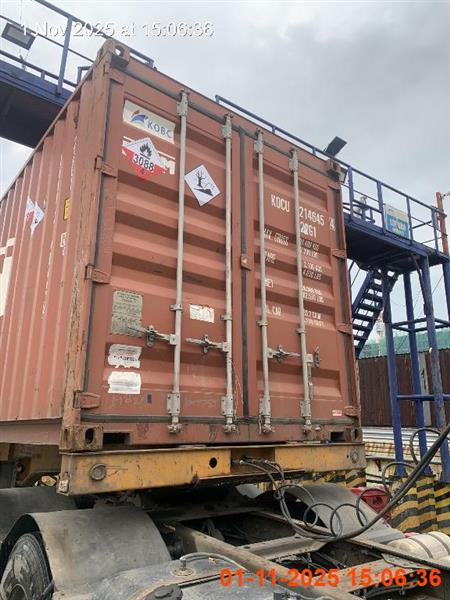crack: (2, 32, 449, 598), (0, 37, 370, 500)
